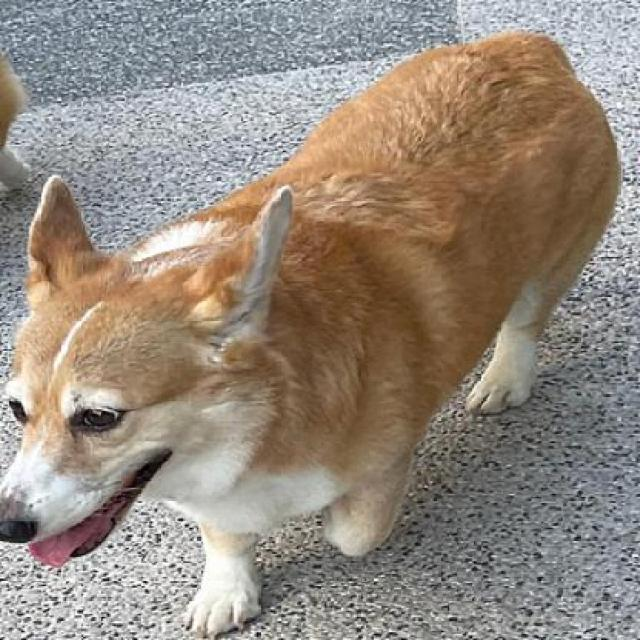Dog: (0, 24, 623, 638)
